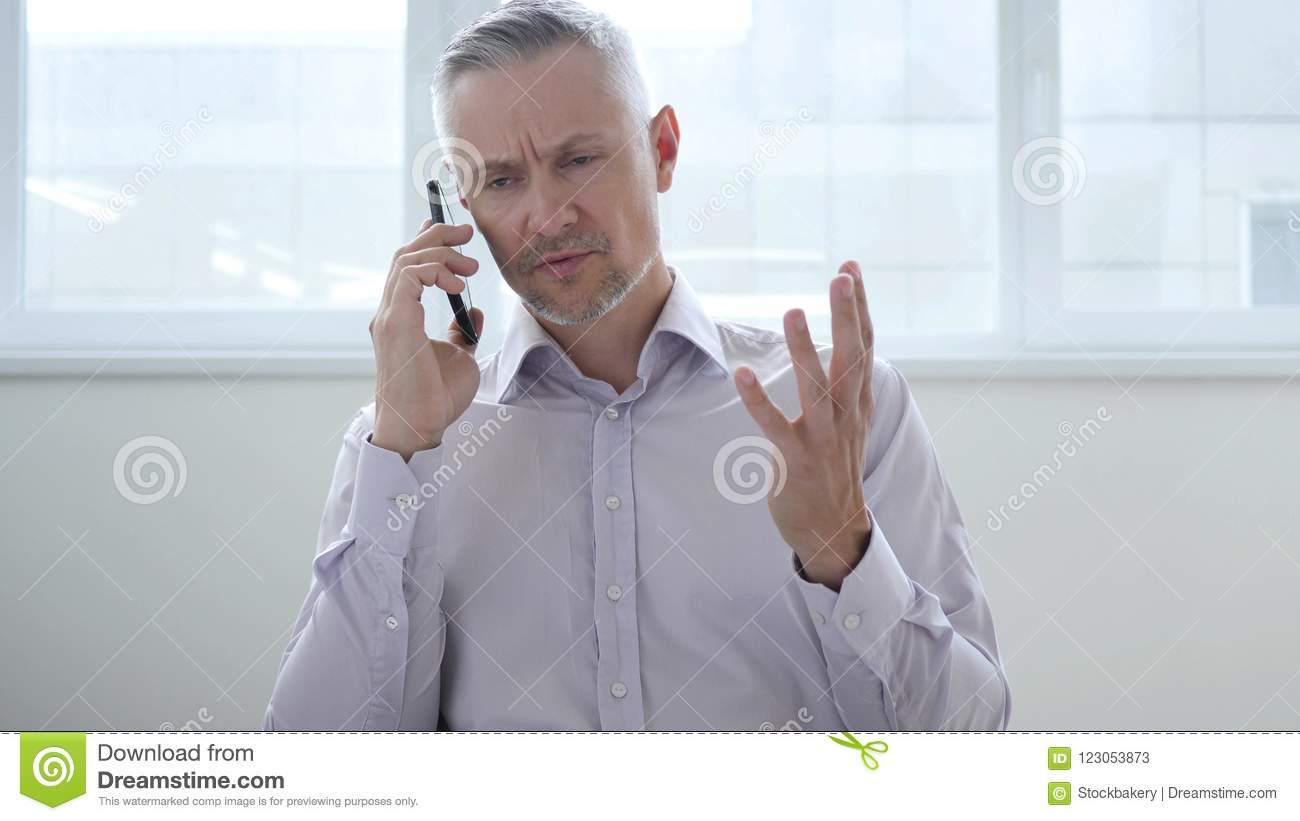phone: (417, 174, 481, 348)
talk: (369, 114, 630, 434)
